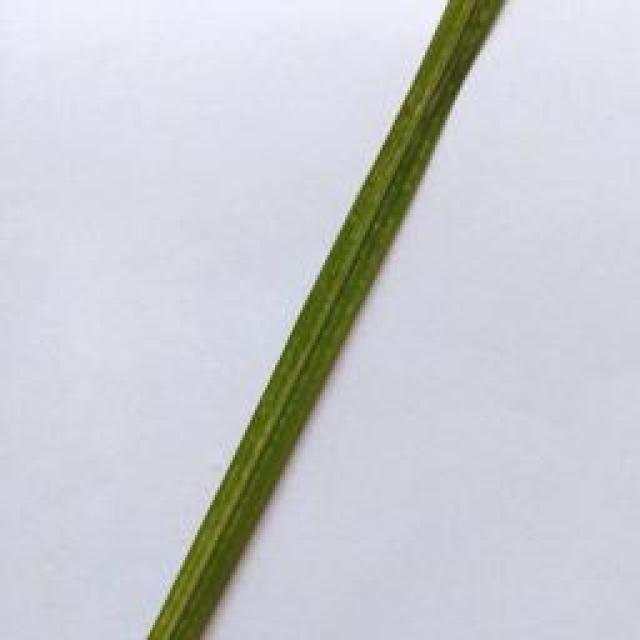Healthy-Plant: (147, 0, 509, 640)
